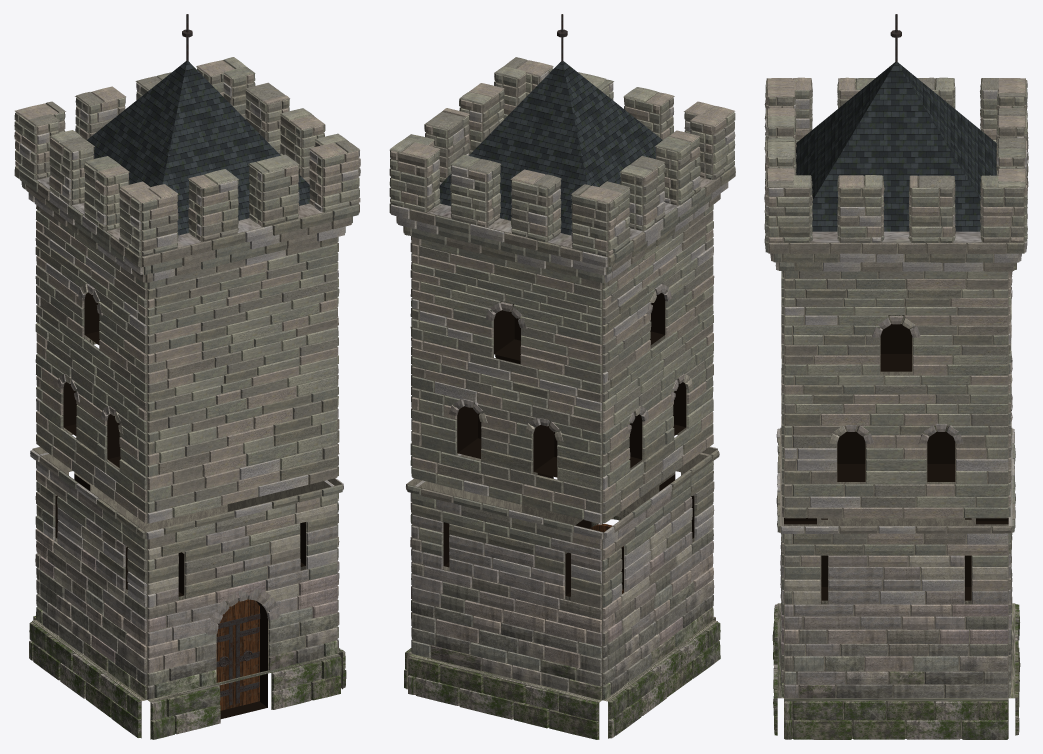
The model's file is fort_keep.glb.
The picture shows the model from 3 angles, left to right: view 1: azimuth 30°, elevation 25°; view 2: azimuth 150°, elevation 25°; view 3: azimuth 270°, elevation 25°; orthographic projection. The views are drawn at different scales.
Parts seen in each view (by area): view 1: fort_keep; view 2: fort_keep; view 3: fort_keep.
Boxes of the visible parts, x1=… form: fort_keep: x1=14, y1=14, x2=360, y2=739; fort_keep: x1=389, y1=14, x2=735, y2=739; fort_keep: x1=764, y1=14, x2=1028, y2=739.
Size of the model in its own units: 5.64 by 15.9 by 5.65.
Materials: 5 (5 with a texture image).
